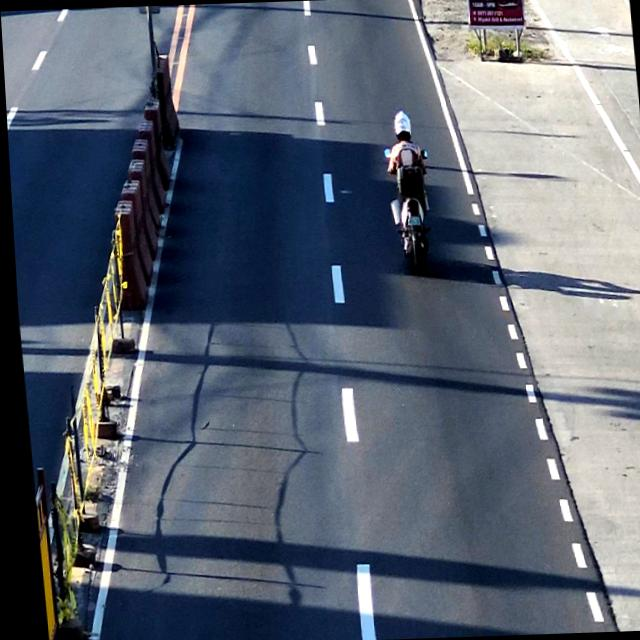License-Plate: (404, 216, 419, 228)
Motorcycle: (381, 109, 436, 285)
